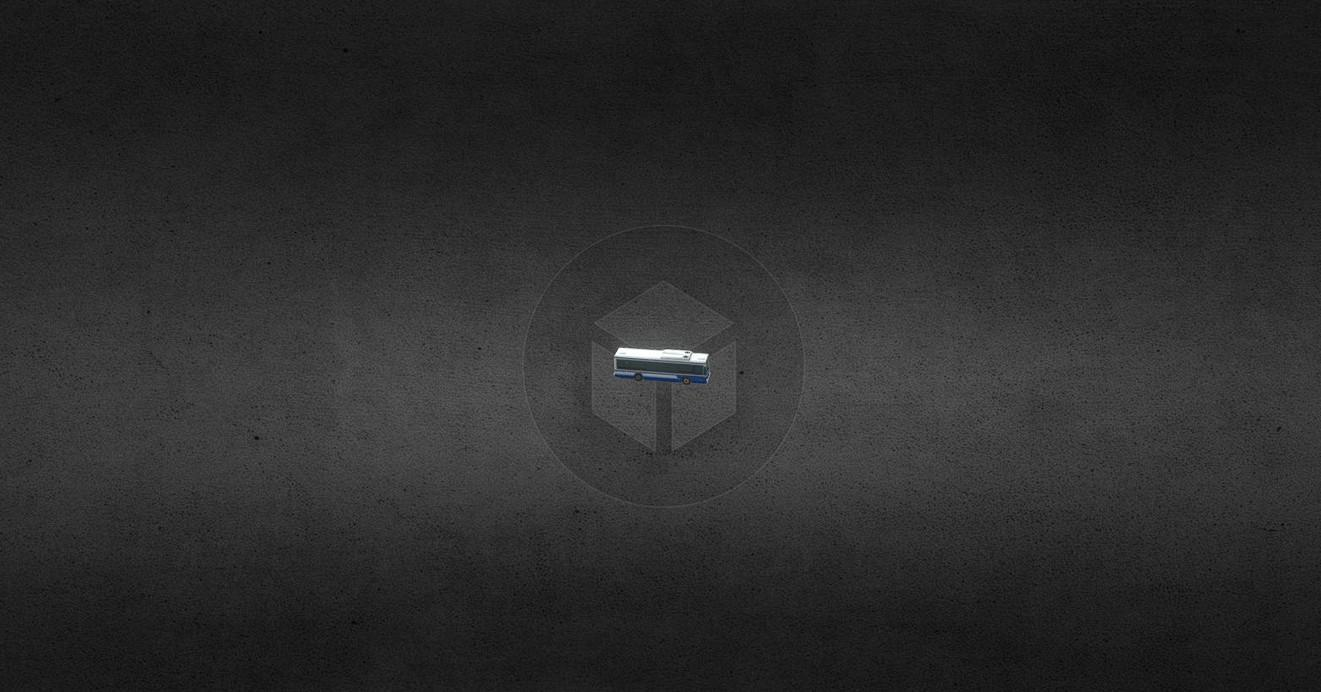Bus: (612, 346, 711, 385)
